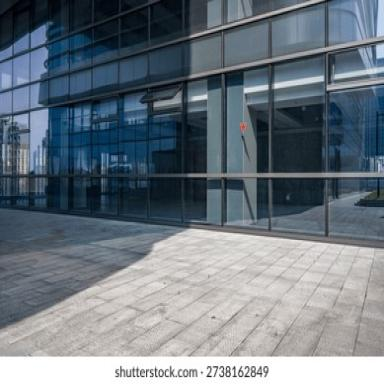glass_panel: (228, 72, 269, 224), (330, 88, 383, 200), (187, 77, 223, 216), (270, 177, 326, 233), (272, 6, 325, 56), (329, 0, 379, 44), (331, 44, 384, 81), (225, 22, 269, 66), (1, 114, 30, 175), (30, 109, 49, 176), (192, 34, 221, 74), (50, 108, 67, 174)
